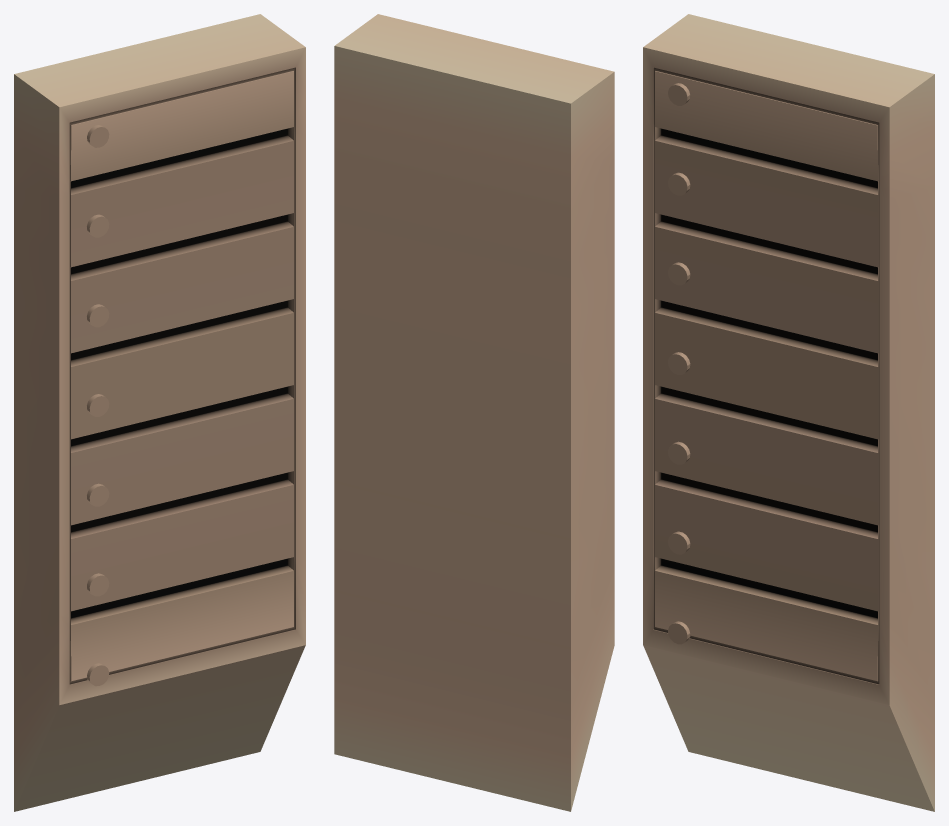
Rendered from mail.fbx.
The picture shows the model from 3 angles, left to right: view 1: azimuth 30°, elevation 25°; view 2: azimuth 150°, elevation 25°; view 3: azimuth 330°, elevation 25°; orthographic projection. The views are drawn at different scales.
Visible parts, largest first — view 1: Cube.151; view 2: Cube.151; view 3: Cube.151.
Part boxes in pixels (<box>): Cube.151: <box>14,14,305,811</box>; Cube.151: <box>334,14,614,811</box>; Cube.151: <box>643,14,934,811</box>.
Bounding box in the file's own units: 84.57 × 242 × 28.6.
